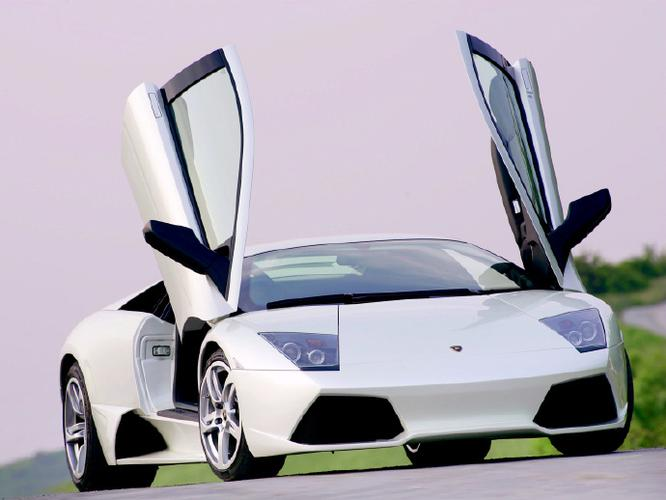汽车: (29, 26, 648, 489)
